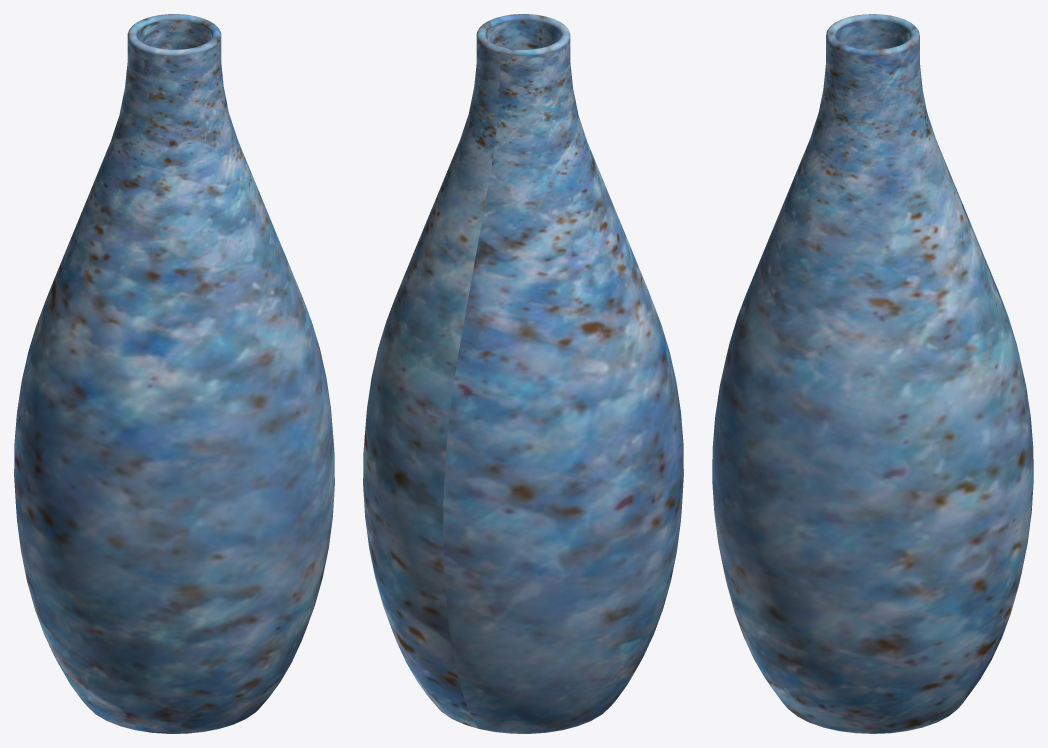
File: flowerpot_marbleBlue.gltf
The picture shows the model from 3 angles, left to right: view 1: azimuth 30°, elevation 25°; view 2: azimuth 150°, elevation 25°; view 3: azimuth 270°, elevation 25°; orthographic projection.
Visible parts, largest first — view 1: medium_vase_bottle_mesh; view 2: medium_vase_bottle_mesh; view 3: medium_vase_bottle_mesh.
Boxes of the visible parts, left/top/right/bottom form: medium_vase_bottle_mesh: left=14, top=14, right=334, bottom=733; medium_vase_bottle_mesh: left=363, top=14, right=683, bottom=733; medium_vase_bottle_mesh: left=712, top=14, right=1033, bottom=733.
Bounding box in the file's own units: 0.236 × 0.5387 × 0.236.
Materials: 1 (1 with a texture image).
